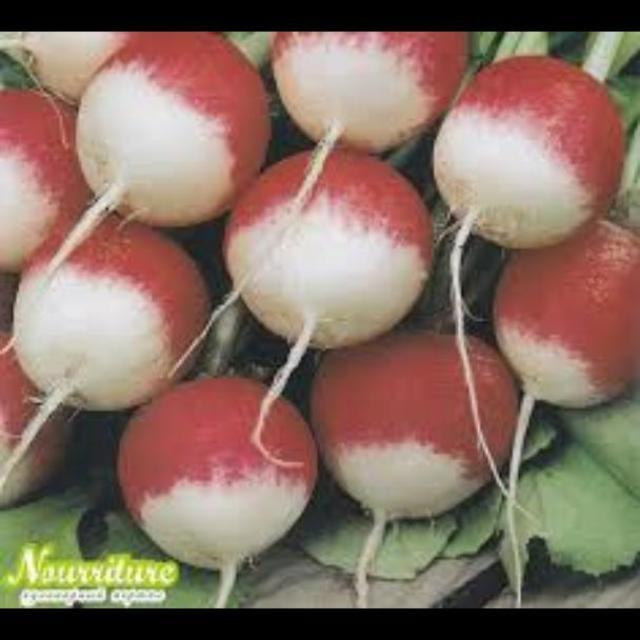rediska: (222, 147, 456, 356), (302, 326, 526, 532), (114, 362, 322, 581), (60, 32, 279, 225), (431, 44, 630, 250), (9, 209, 206, 397), (489, 197, 639, 430), (249, 30, 477, 149), (0, 67, 95, 290), (0, 321, 69, 518)
